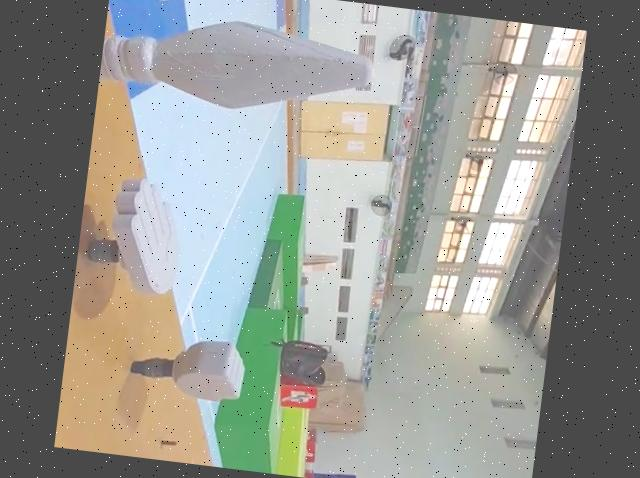Fist: (124, 323, 250, 407)
Hand: (76, 172, 192, 299), (77, 173, 192, 298)
Sph: (97, 0, 389, 124)
